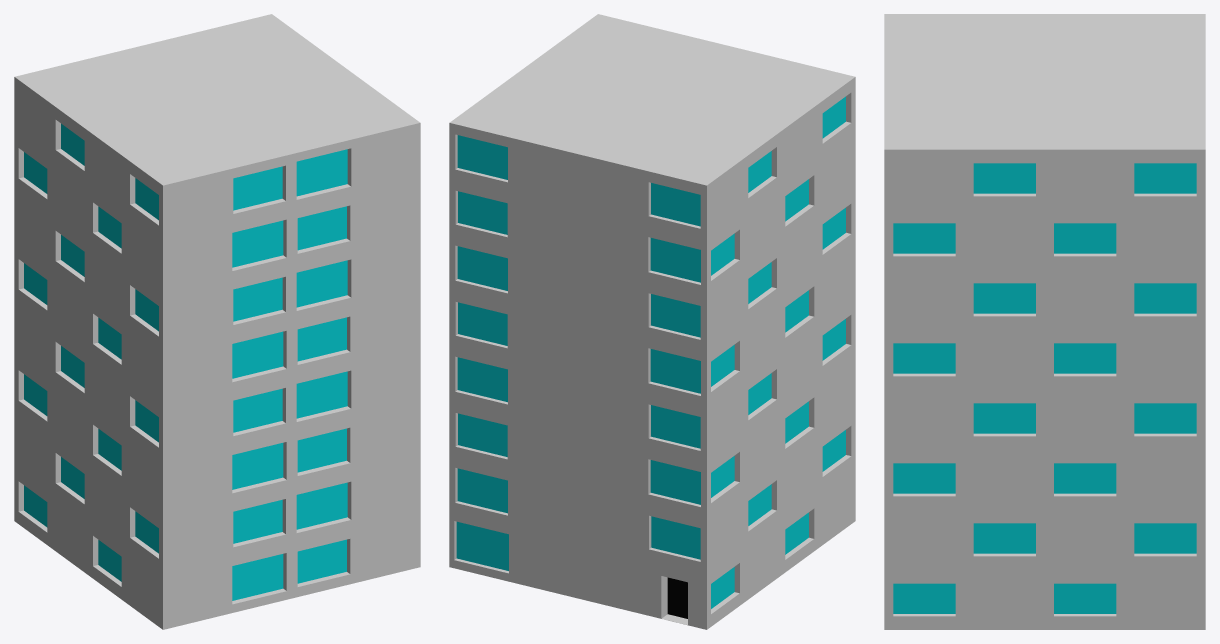
File: Predio5.fbx
The picture shows the model from 3 angles, left to right: view 1: azimuth 30°, elevation 25°; view 2: azimuth 150°, elevation 25°; view 3: azimuth 270°, elevation 25°; orthographic projection. The views are drawn at different scales.
Visible parts, largest first — view 1: Cube; view 2: Cube; view 3: Cube.
Part boxes in pixels (x1,y1,x2,y2): Cube: [14, 14, 420, 629]; Cube: [449, 14, 855, 629]; Cube: [884, 14, 1205, 629].
Size of the model in its own units: 133 by 220 by 133.
